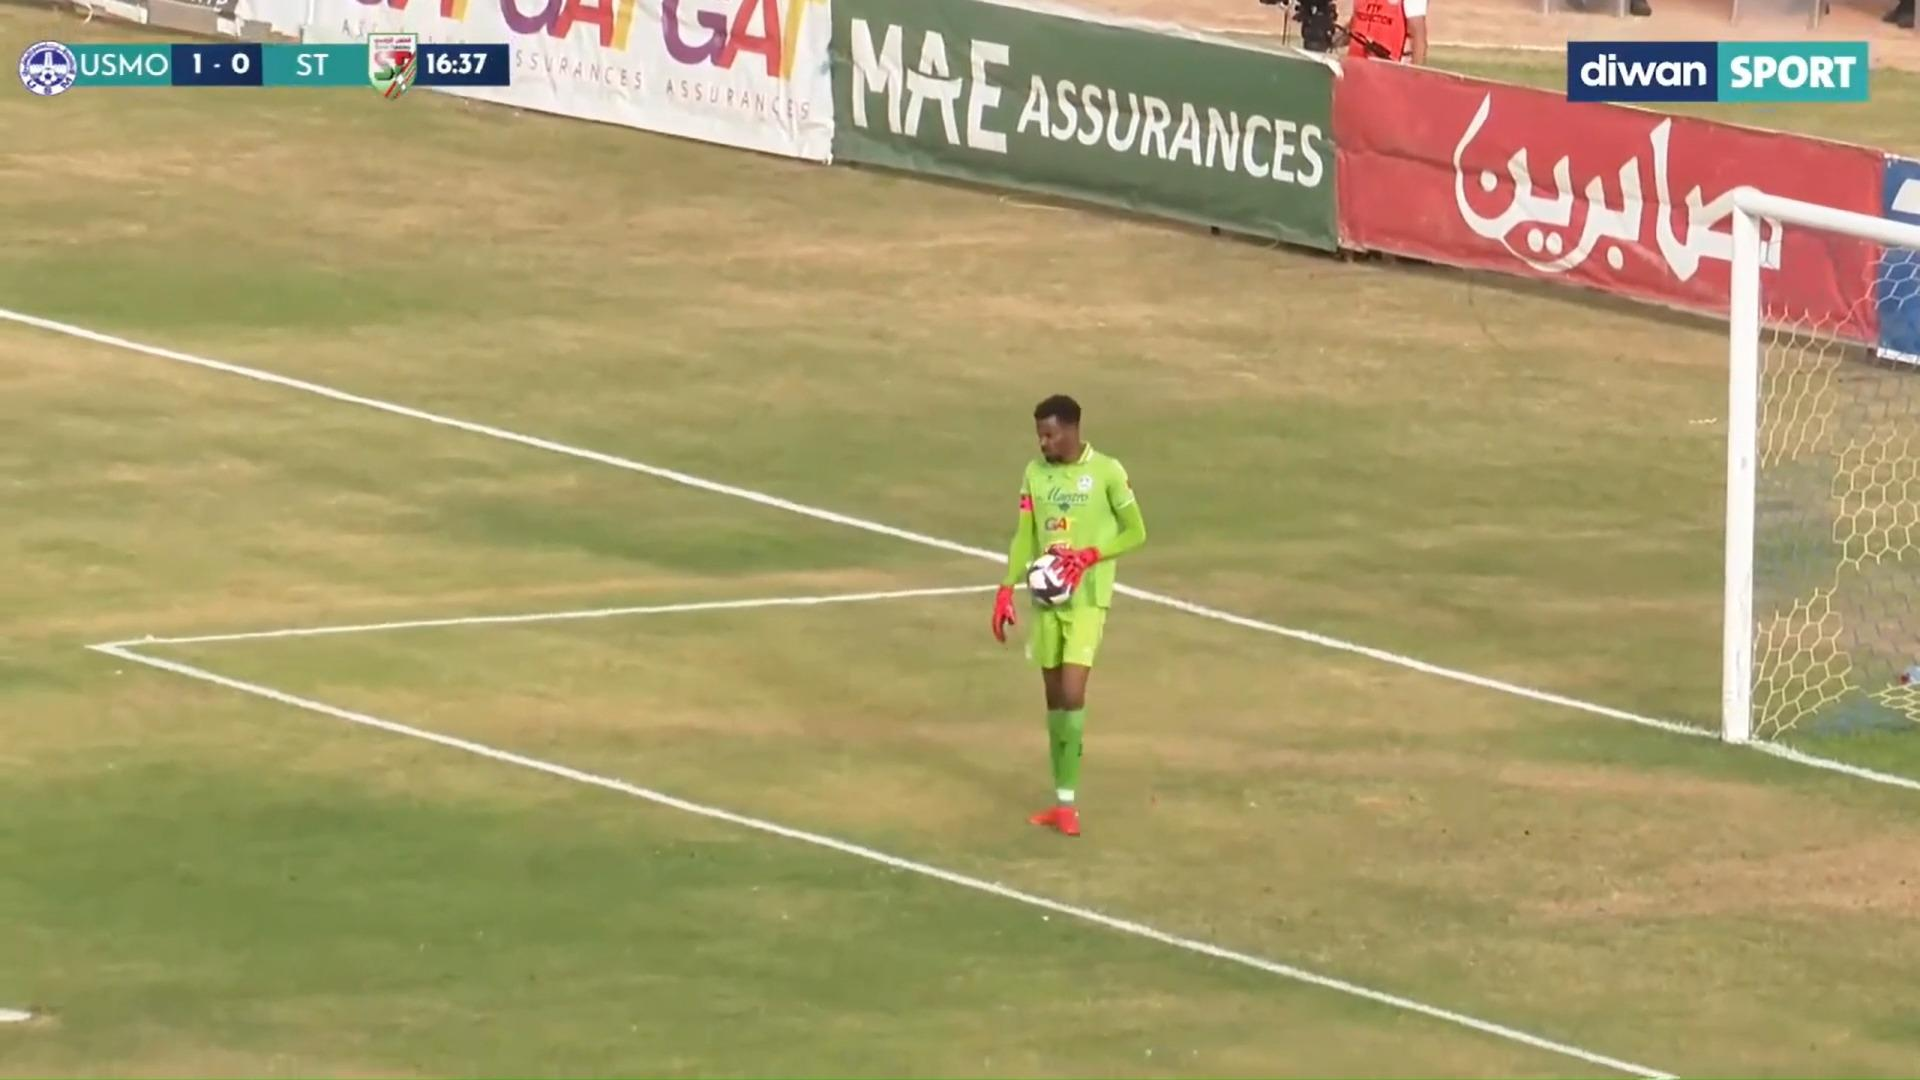ball: (1023, 537, 1083, 637)
goalkeeper: (968, 320, 1171, 876)
